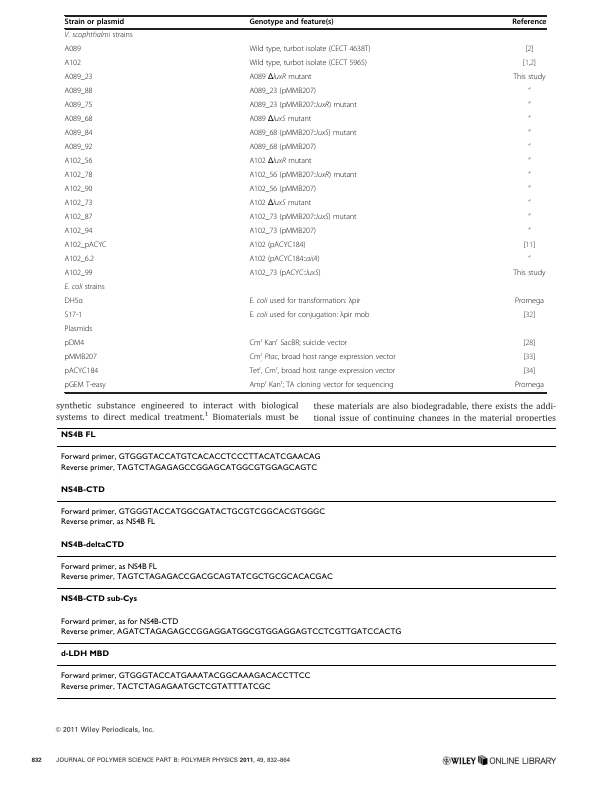borderless: (63, 14, 546, 392), (56, 426, 556, 698)
cell: (59, 627, 402, 637), (59, 572, 333, 582), (59, 507, 326, 517), (59, 463, 318, 473), (59, 453, 321, 462), (59, 672, 311, 681), (59, 682, 271, 692), (248, 351, 396, 363), (248, 365, 396, 377), (248, 379, 394, 391), (248, 45, 371, 55), (248, 311, 370, 321), (59, 617, 179, 627), (248, 59, 368, 69), (248, 337, 348, 349), (248, 297, 361, 307), (248, 101, 358, 111), (248, 171, 358, 181), (248, 129, 357, 139), (248, 213, 357, 223), (59, 562, 157, 572), (59, 518, 156, 527), (248, 18, 335, 27), (248, 269, 321, 279), (248, 255, 320, 265), (59, 595, 138, 604), (64, 31, 134, 41), (248, 87, 317, 97), (248, 143, 317, 153), (248, 185, 317, 195), (248, 227, 317, 237), (59, 540, 125, 550), (248, 73, 312, 83), (248, 115, 312, 125), (248, 157, 312, 167), (248, 199, 312, 209), (248, 241, 306, 251), (64, 18, 125, 27), (59, 485, 105, 495), (59, 650, 109, 659), (64, 241, 108, 251), (64, 381, 107, 391), (64, 283, 106, 293), (64, 367, 99, 377), (512, 73, 546, 83), (512, 269, 546, 279), (64, 353, 98, 363), (59, 431, 96, 440), (511, 18, 547, 27), (64, 255, 95, 265), (514, 297, 545, 307), (514, 381, 545, 391), (64, 73, 93, 83), (64, 87, 93, 97), (64, 101, 93, 111), (64, 115, 93, 125), (64, 129, 93, 139), (64, 143, 93, 153), (64, 157, 93, 167), (64, 171, 93, 181), (64, 185, 93, 195), (64, 199, 93, 209), (64, 213, 93, 223), (64, 227, 93, 237), (64, 269, 93, 279), (64, 325, 93, 335), (64, 339, 85, 349), (64, 297, 84, 307), (64, 311, 83, 321), (64, 45, 82, 55), (64, 59, 82, 69), (522, 59, 537, 69), (522, 241, 536, 251), (522, 311, 536, 321), (522, 339, 536, 349), (522, 353, 536, 363), (522, 367, 536, 377), (524, 45, 534, 55), (527, 87, 531, 95), (527, 101, 531, 109), (527, 115, 531, 123), (527, 129, 531, 137), (527, 143, 531, 151), (527, 157, 531, 165), (527, 171, 531, 179), (527, 185, 531, 193), (527, 199, 531, 207), (527, 213, 531, 221), (527, 227, 531, 235), (527, 255, 531, 263)
